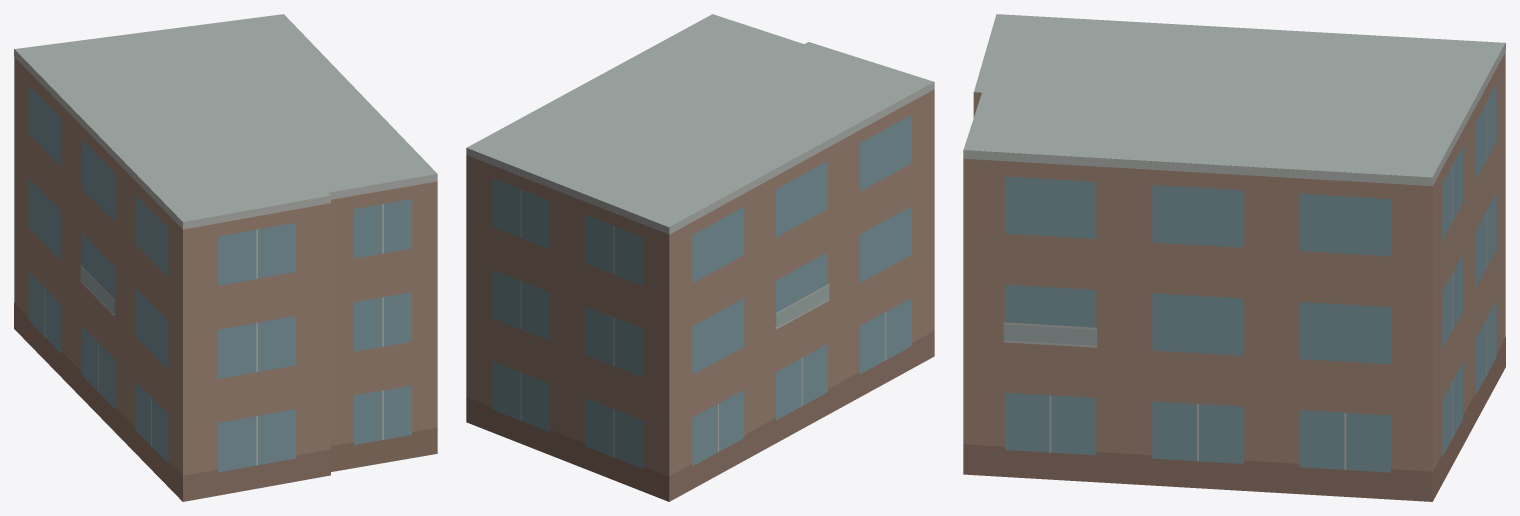
Rendered from survey-upis-32962782.glb.
The picture shows the model from 3 angles, left to right: view 1: azimuth 30°, elevation 25°; view 2: azimuth 150°, elevation 25°; view 3: azimuth 270°, elevation 25°; orthographic projection. The views are drawn at different scales.
Visible parts, largest first — view 1: survey-upis-32962782.tmp; view 2: survey-upis-32962782.tmp; view 3: survey-upis-32962782.tmp.
Part boxes in pixels (x1,y1,x2,y2): survey-upis-32962782.tmp: [14, 14, 437, 501]; survey-upis-32962782.tmp: [466, 14, 934, 501]; survey-upis-32962782.tmp: [963, 14, 1505, 501].
Bounding box in the file's own units: 9.9 × 9.15 × 13.88.
